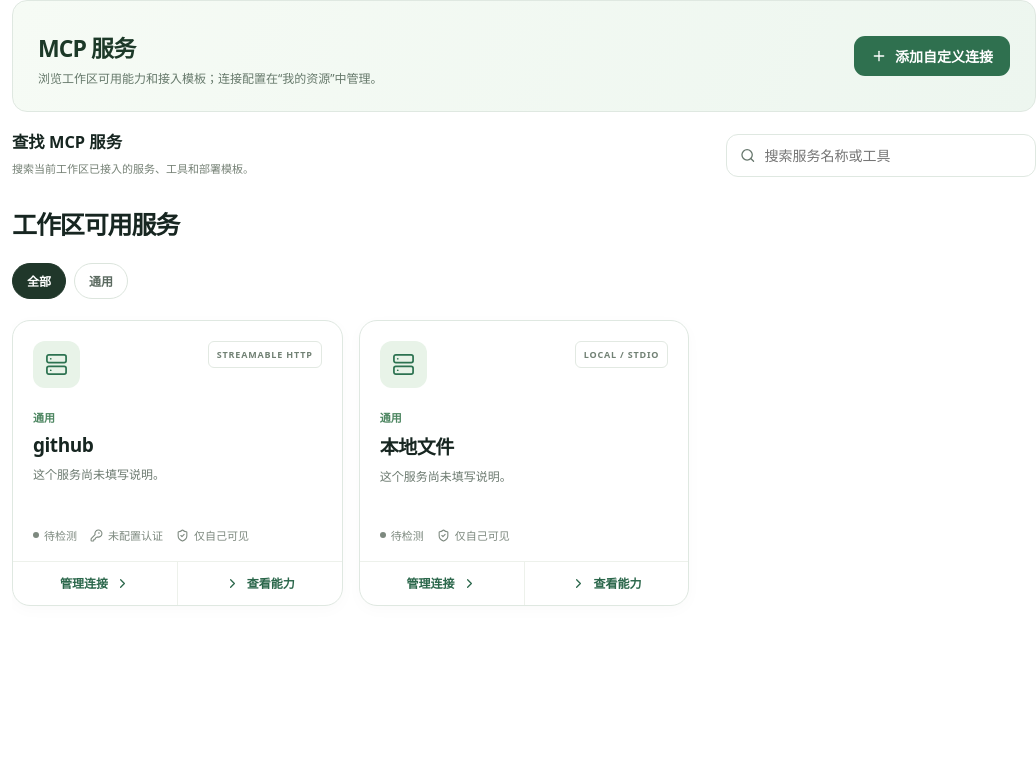
Test: MCP 连接配置 › 发现页没有模板仍显示已有服务，并且只查询本地资源接口
The width and height of the screenshot is (1036, 768).
Expected: the heading "github" is shown, [33, 432, 93, 458]
Expected: the heading "本地文件" is shown, [380, 434, 454, 460]
Type "repo_search" into the field named "搜索 MCP 服务" at (893, 156), box [764, 135, 1022, 176]
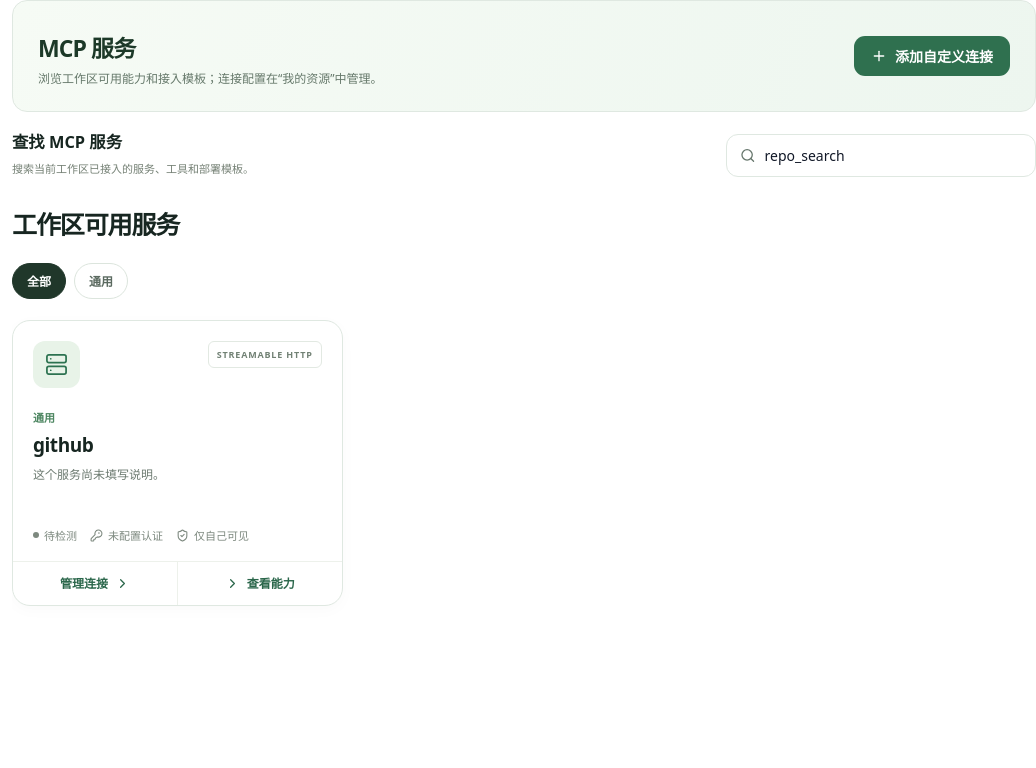
Expected: the heading "github" is shown, [33, 432, 93, 458]
Now the heading "本地文件" is gone
